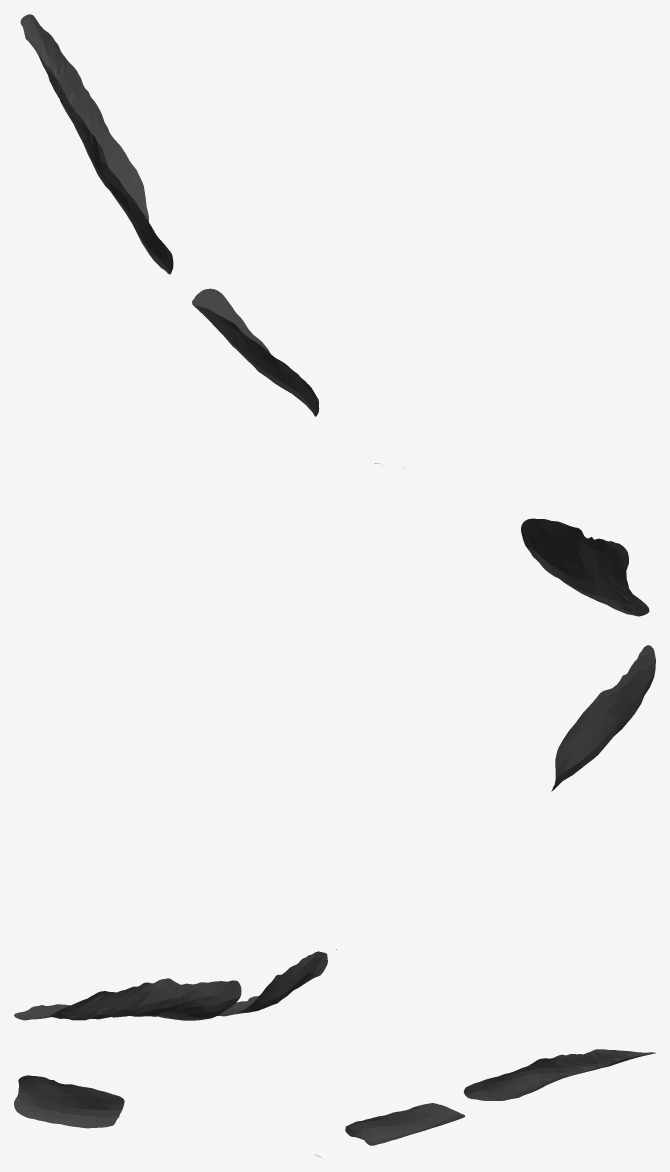
The model's file is vein_brachial.glb.
The picture shows the model from 3 angles, top to bottom: view 1: azimuth 30°, elevation 25°; view 2: azimuth 150°, elevation 25°; view 3: azimuth 270°, elevation 25°; orthographic projection. The views are drawn at different scales.
Visible parts, largest first — view 1: vein_brachial; view 2: vein_brachial; view 3: vein_brachial.
Boxes of the visible parts, x1,y1,x2,y2 form: vein_brachial: [20, 14, 649, 616]; vein_brachial: [14, 645, 655, 1020]; vein_brachial: [14, 1049, 655, 1157].
Size of the model in its own units: 0.0246 by 0.0616 by 0.3519.
1 material, 1 textured.
